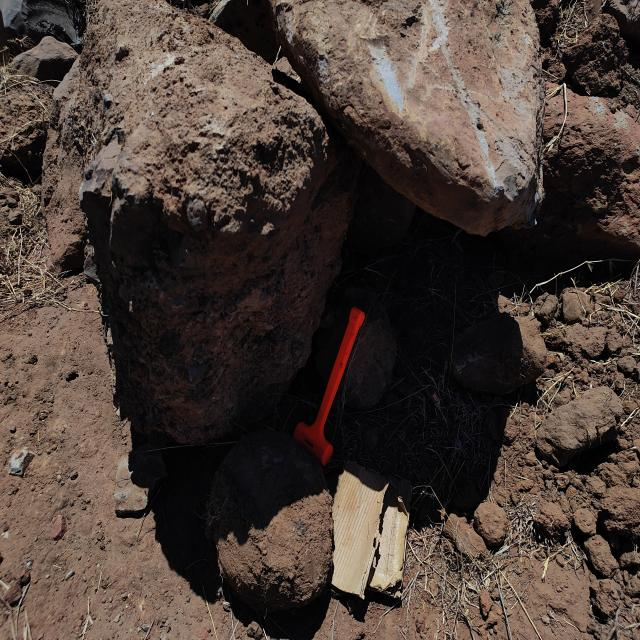Orange_hammer: (293, 306, 365, 466)
